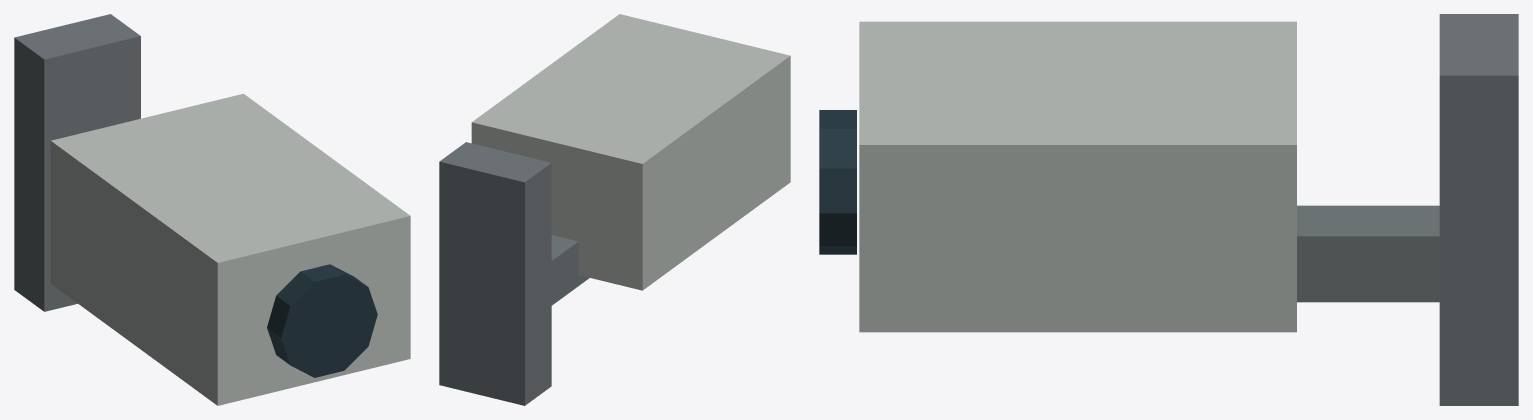
The model's file is SC_Camera.glb.
3 views of the same model, side by side, from view 1: azimuth 30°, elevation 25°; view 2: azimuth 150°, elevation 25°; view 3: azimuth 270°, elevation 25° (orthographic). The views are drawn at different scales.
Parts seen in each view (by area): view 1: SC_Camera; view 2: SC_Camera; view 3: SC_Camera.
Part boxes in pixels (box(x1,y1,x2,y2)): SC_Camera: box(14, 14, 410, 405); SC_Camera: box(439, 14, 790, 405); SC_Camera: box(819, 14, 1518, 405).
Size of the model in its own units: 2.4 by 3 by 5.75.
1 material, 1 textured.
